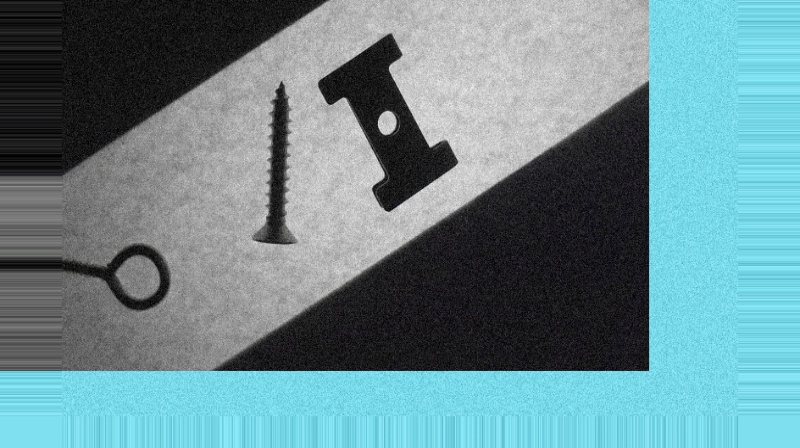O001: (41, 241, 171, 310)
O002: (316, 33, 455, 211)
S001: (249, 79, 301, 247)
